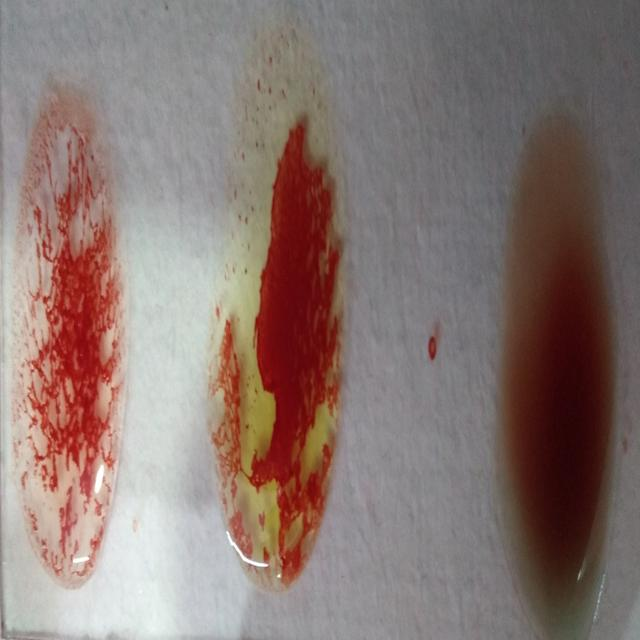B: (210, 10, 346, 583)
D: (7, 72, 123, 585)
